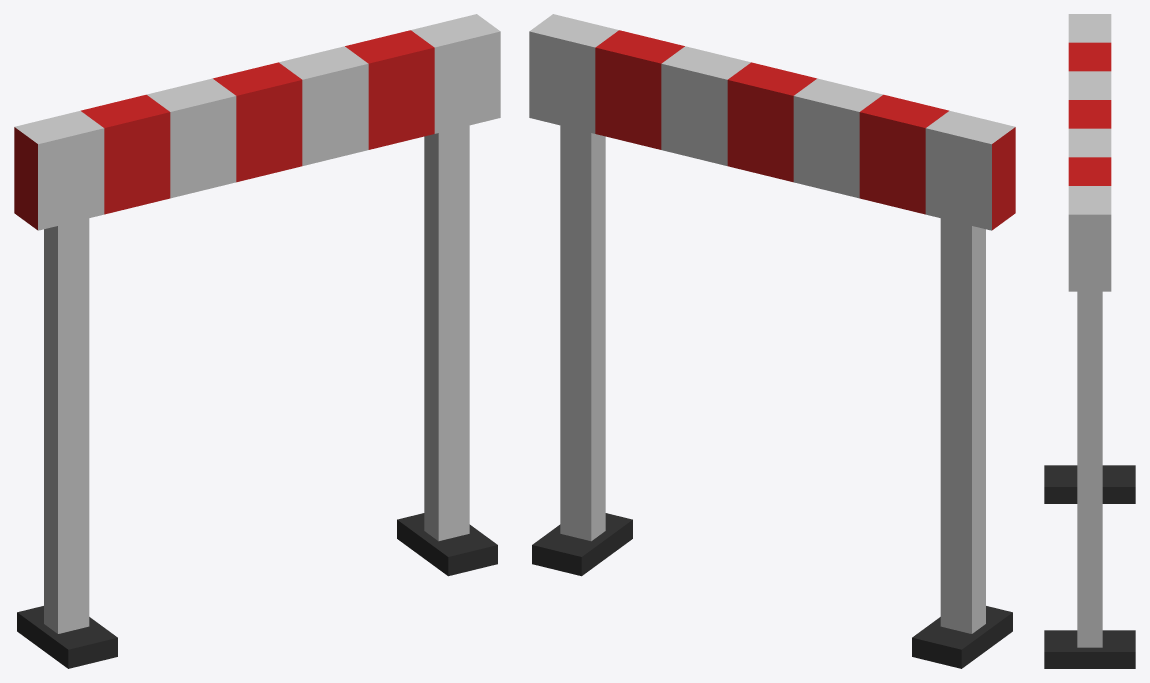
Rendered from Fence.fbx.
The picture shows the model from 3 angles, left to right: view 1: azimuth 30°, elevation 25°; view 2: azimuth 150°, elevation 25°; view 3: azimuth 270°, elevation 25°; orthographic projection. The views are drawn at different scales.
Visible parts, largest first — view 1: Cube.003; view 2: Cube.003; view 3: Cube.003.
Boxes of the visible parts, bbox=[...] form: Cube.003: bbox=[14, 14, 500, 668]; Cube.003: bbox=[529, 14, 1015, 668]; Cube.003: bbox=[1044, 14, 1135, 668].
Size of the model in its own units: 112 by 120 by 21.46.
